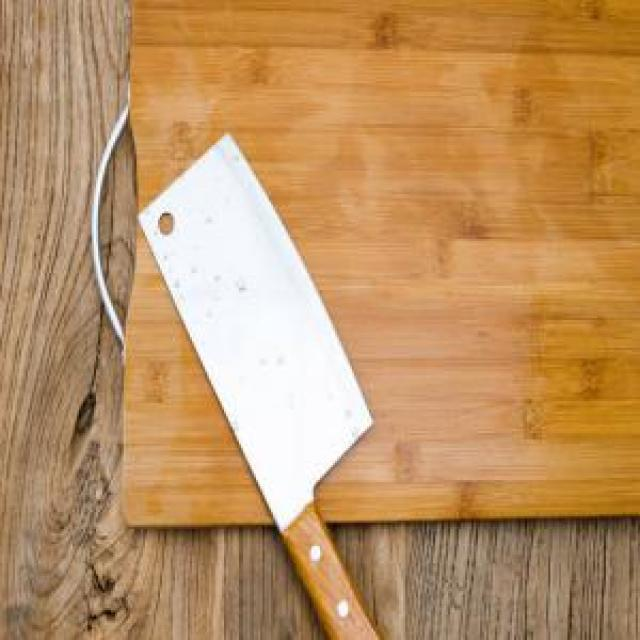knife: (137, 132, 376, 638)
